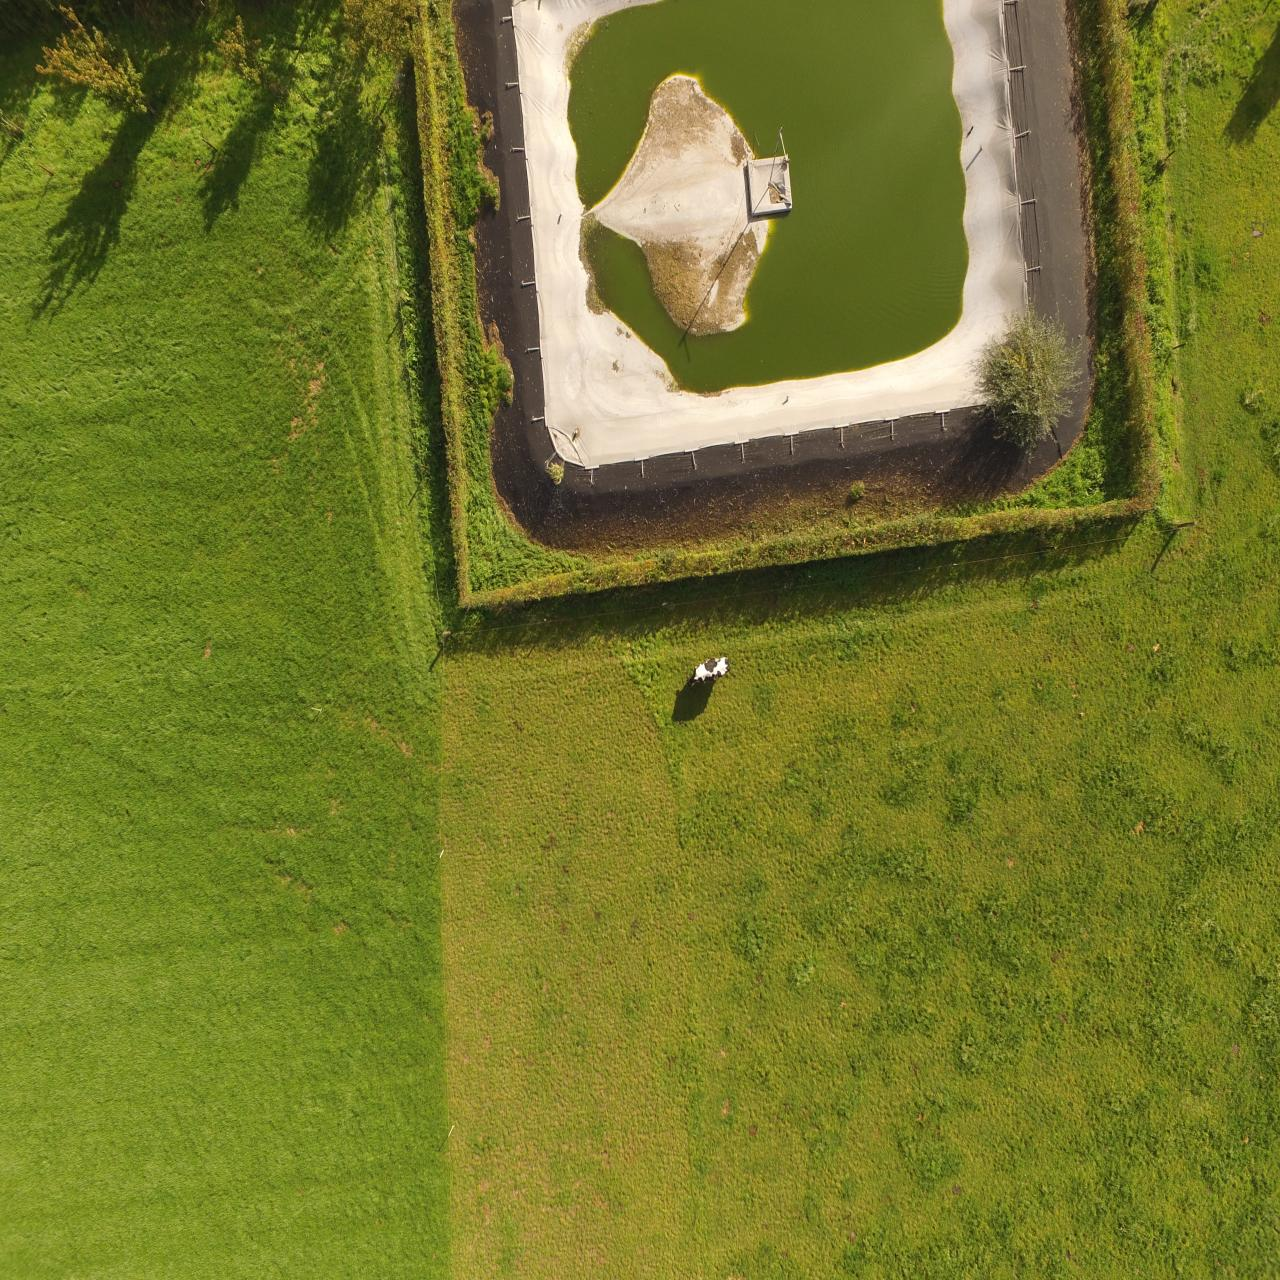cow: (685, 655, 731, 688)
